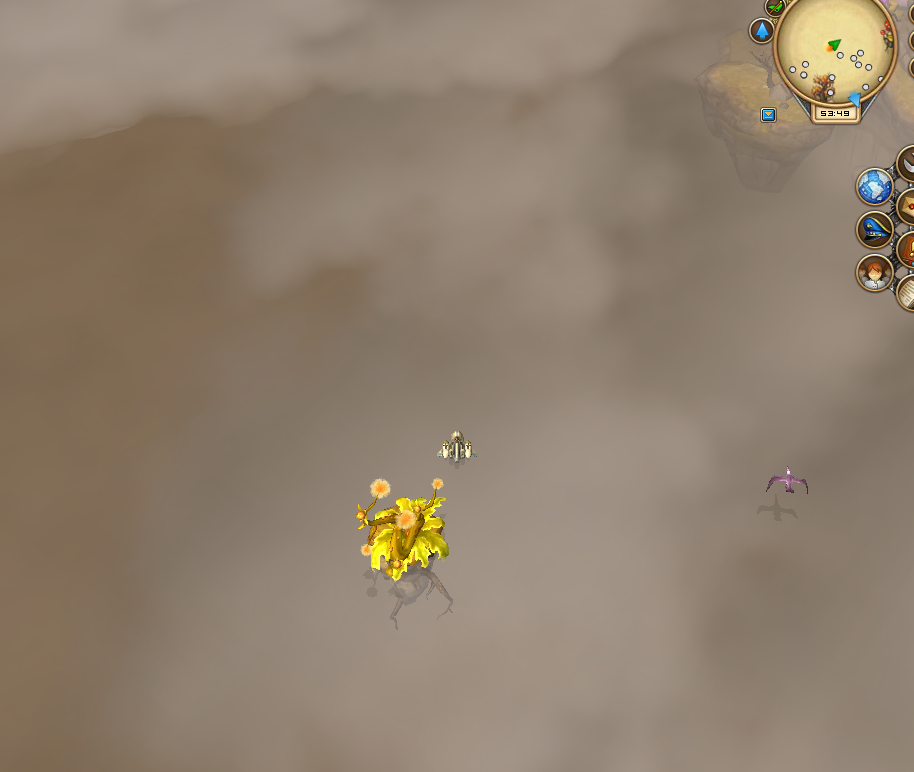dandelion-full: (344, 471, 460, 611)
